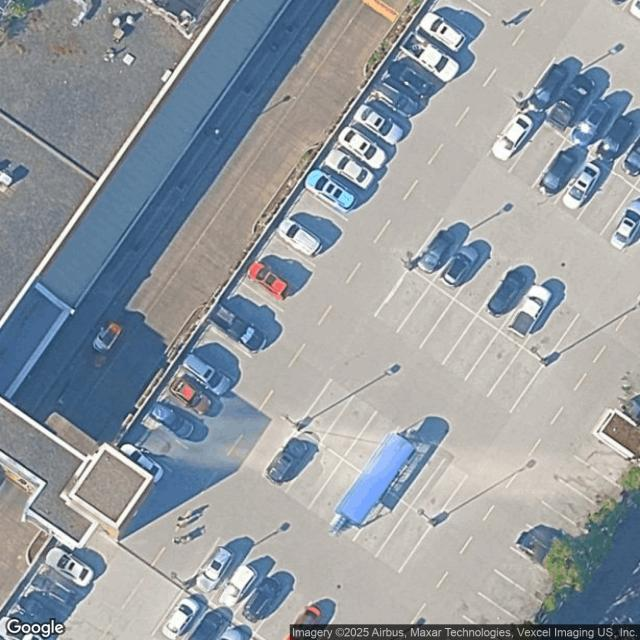car: (398, 29, 463, 86), (544, 70, 600, 134), (208, 303, 270, 358), (504, 281, 556, 341), (303, 166, 360, 218), (590, 110, 639, 170), (568, 93, 617, 152), (336, 124, 393, 174), (179, 350, 236, 400), (515, 528, 575, 575), (524, 63, 573, 119), (351, 100, 407, 149), (214, 559, 262, 616), (263, 432, 312, 487), (323, 146, 379, 194), (43, 544, 99, 592), (273, 212, 327, 261), (436, 239, 485, 291), (416, 8, 470, 55), (384, 55, 438, 102), (165, 372, 218, 419), (491, 110, 536, 165), (560, 158, 605, 213), (146, 397, 199, 443), (484, 266, 529, 320), (192, 542, 237, 596), (370, 74, 424, 119), (116, 438, 169, 483), (156, 591, 205, 638), (240, 578, 285, 626), (538, 147, 579, 199), (605, 194, 639, 255), (246, 259, 293, 301), (416, 228, 457, 276), (17, 591, 61, 630), (33, 569, 77, 607), (188, 608, 228, 639), (287, 607, 325, 639), (5, 612, 50, 639), (617, 132, 639, 180)
lot_boundary: (0, 0, 639, 639)
objects: (325, 427, 421, 544), (592, 404, 639, 470)
stall: (497, 547, 569, 610), (482, 570, 554, 633), (560, 456, 631, 519), (513, 522, 584, 585), (545, 478, 616, 540), (529, 501, 600, 563), (574, 433, 639, 495), (397, 284, 454, 347), (409, 220, 466, 283), (375, 268, 431, 331), (420, 300, 476, 363), (443, 316, 499, 379), (465, 331, 521, 394), (488, 347, 544, 410), (524, 299, 580, 362), (478, 268, 534, 331), (455, 252, 511, 314), (501, 283, 557, 345), (432, 237, 488, 299), (512, 123, 567, 186), (557, 155, 612, 218), (579, 171, 634, 234), (298, 380, 353, 443), (568, 92, 623, 155), (522, 60, 577, 123), (321, 396, 376, 459), (354, 491, 409, 554), (266, 426, 321, 489), (533, 140, 588, 202), (388, 445, 443, 507), (288, 444, 343, 506), (545, 75, 599, 138), (412, 461, 466, 524), (378, 508, 432, 571), (209, 302, 269, 358), (489, 106, 543, 168), (465, 594, 539, 639), (290, 190, 349, 246), (188, 541, 242, 600), (211, 556, 264, 615), (233, 573, 286, 632), (311, 459, 363, 519), (589, 109, 639, 171), (356, 98, 412, 153), (132, 415, 188, 470), (244, 258, 300, 312), (324, 144, 380, 198), (308, 167, 364, 221), (274, 213, 330, 267), (258, 235, 314, 289), (387, 50, 443, 104), (372, 74, 428, 128), (339, 122, 395, 176), (193, 327, 249, 381), (403, 27, 459, 81), (148, 394, 204, 448), (343, 412, 395, 470), (227, 281, 283, 334), (44, 542, 101, 594), (29, 564, 86, 616), (13, 587, 70, 639), (165, 372, 219, 425), (418, 8, 474, 59), (181, 351, 233, 402), (600, 188, 639, 255), (154, 590, 205, 639), (255, 593, 305, 639), (432, 0, 490, 39), (121, 438, 172, 482), (278, 604, 327, 639), (183, 606, 231, 639), (0, 610, 54, 639), (614, 135, 639, 186)
